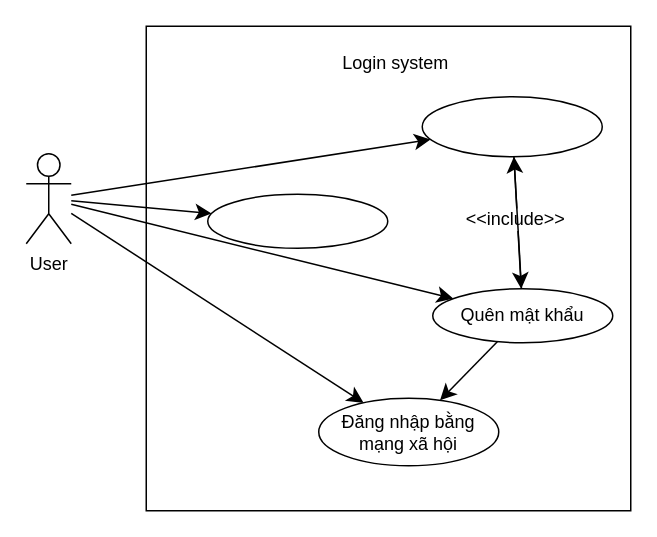
Some shapes in this 657 by 537 pixel diagram are drawn without their labels. Each missing label, with the centre of its shape:
"Đăng kí" belongs at [297,220].
"Đăng nhập" belongs at [511,126].
